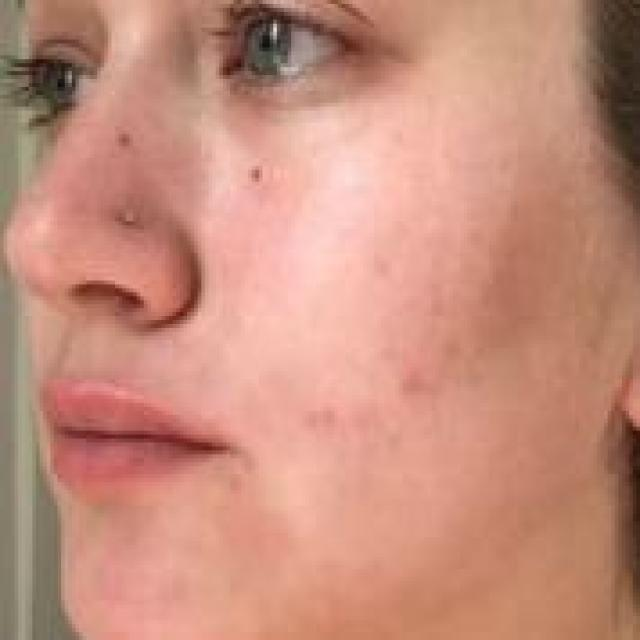blackheads: (392, 363, 439, 403), (299, 407, 345, 438), (115, 202, 137, 229), (248, 154, 266, 178), (118, 130, 130, 146)
